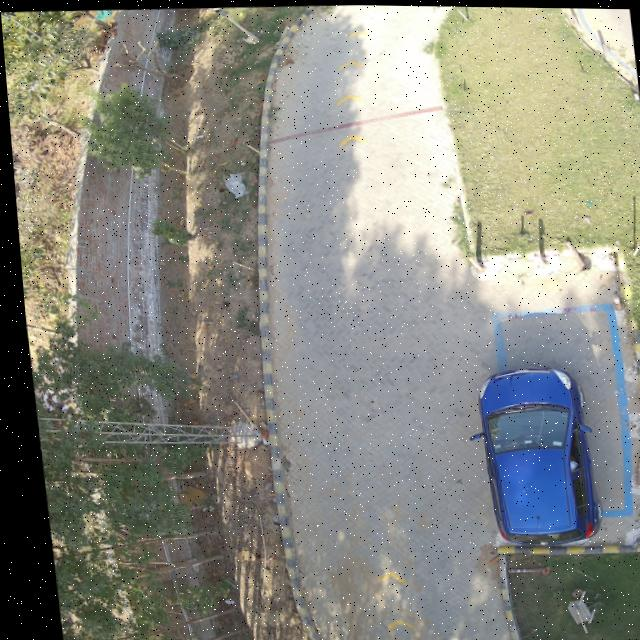car: (471, 363, 594, 542)
